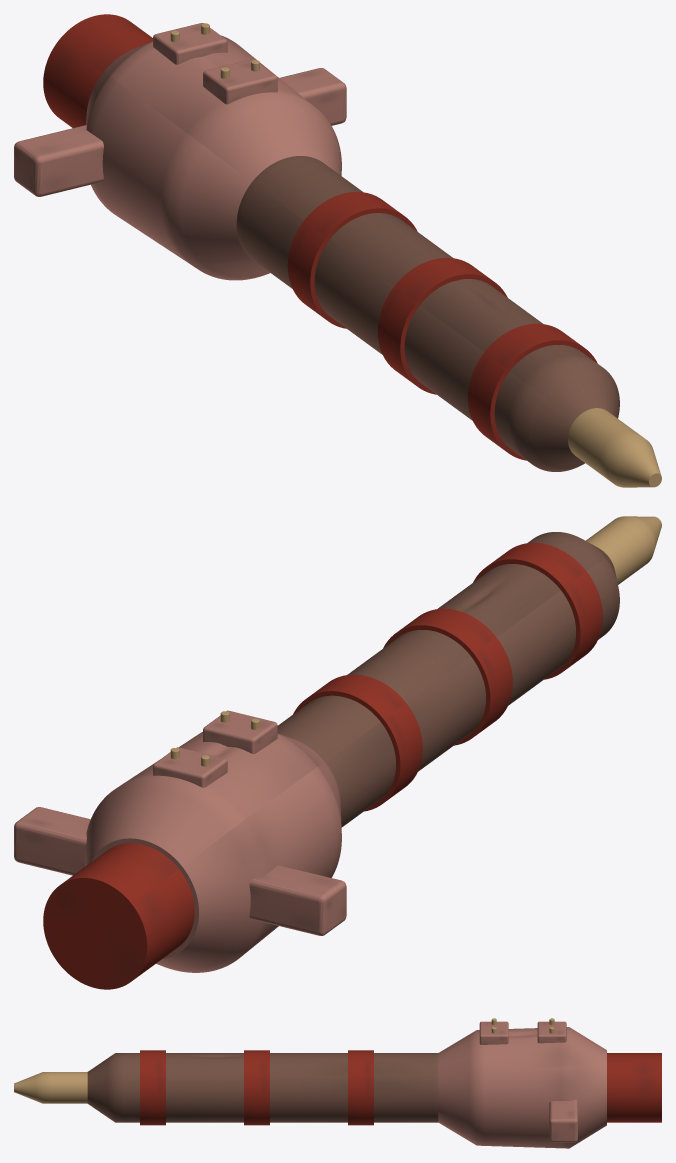
3 renders of one model, top to bottom at view 1: azimuth 30°, elevation 25°; view 2: azimuth 150°, elevation 25°; view 3: azimuth 270°, elevation 25°, orthographic. The views are drawn at different scales.
Visible parts, largest first — view 1: Achaean Frighteners shaft, Achaean Frighteners shoulder, Achaean Frighteners rear, Achaean Frighteners lateral shoulder 0, Achaean Frighteners tip, Achaean Frighteners shaft band 0, Achaean Frighteners shaft band 1, Achaean Frighteners shaft band 2, Achaean Frighteners lateral shoulder 1, Achaean Frighteners service cover 0, Achaean Frighteners service cover 1; view 2: Achaean Frighteners shoulder, Achaean Frighteners shaft, Achaean Frighteners rear, Achaean Frighteners lateral shoulder 0, Achaean Frighteners shaft band 1, Achaean Frighteners shaft band 2, Achaean Frighteners shaft band 0, Achaean Frighteners lateral shoulder 1, Achaean Frighteners tip, Achaean Frighteners service cover 0, Achaean Frighteners service cover 1; view 3: Achaean Frighteners shaft, Achaean Frighteners shoulder, Achaean Frighteners rear, Achaean Frighteners tip, Achaean Frighteners shaft band 0, Achaean Frighteners shaft band 1, Achaean Frighteners shaft band 2, Achaean Frighteners lateral shoulder 1, Achaean Frighteners service cover 0, Achaean Frighteners service cover 1.
Boxes of the visible parts, x1,y1,x2,y2 form: Achaean Frighteners shaft: (236, 156, 619, 471); Achaean Frighteners shoulder: (86, 35, 341, 280); Achaean Frighteners rear: (43, 14, 152, 127); Achaean Frighteners lateral shoulder 0: (14, 125, 103, 196); Achaean Frighteners tip: (568, 408, 661, 487); Achaean Frighteners shaft band 0: (468, 323, 597, 460); Achaean Frighteners shaft band 1: (378, 257, 507, 394); Achaean Frighteners shaft band 2: (287, 192, 417, 328); Achaean Frighteners lateral shoulder 1: (279, 68, 346, 125); Achaean Frighteners service cover 0: (203, 59, 277, 104); Achaean Frighteners service cover 1: (153, 23, 227, 64); Achaean Frighteners shoulder: (84, 732, 341, 972); Achaean Frighteners shaft: (277, 532, 619, 827); Achaean Frighteners rear: (43, 843, 194, 989); Achaean Frighteners lateral shoulder 0: (249, 865, 346, 935); Achaean Frighteners shaft band 1: (383, 608, 512, 745); Achaean Frighteners shaft band 2: (293, 674, 422, 811); Achaean Frighteners shaft band 0: (473, 542, 602, 679); Achaean Frighteners lateral shoulder 1: (14, 807, 90, 875); Achaean Frighteners tip: (586, 516, 661, 584); Achaean Frighteners service cover 0: (203, 710, 277, 753); Achaean Frighteners service cover 1: (153, 747, 227, 787); Achaean Frighteners shaft: (87, 1053, 438, 1122); Achaean Frighteners shoulder: (438, 1027, 606, 1148); Achaean Frighteners rear: (607, 1053, 661, 1122); Achaean Frighteners tip: (14, 1072, 87, 1103); Achaean Frighteners shaft band 0: (140, 1050, 165, 1125); Achaean Frighteners shaft band 1: (244, 1050, 269, 1125); Achaean Frighteners shaft band 2: (348, 1050, 373, 1125); Achaean Frighteners lateral shoulder 1: (549, 1099, 577, 1142); Achaean Frighteners service cover 0: (479, 1021, 508, 1044); Achaean Frighteners service cover 1: (537, 1021, 566, 1043).
Bounding box in the file's own units: 0.72 × 0.455 × 2.24.
Materials: 4 (3 with a texture image).
